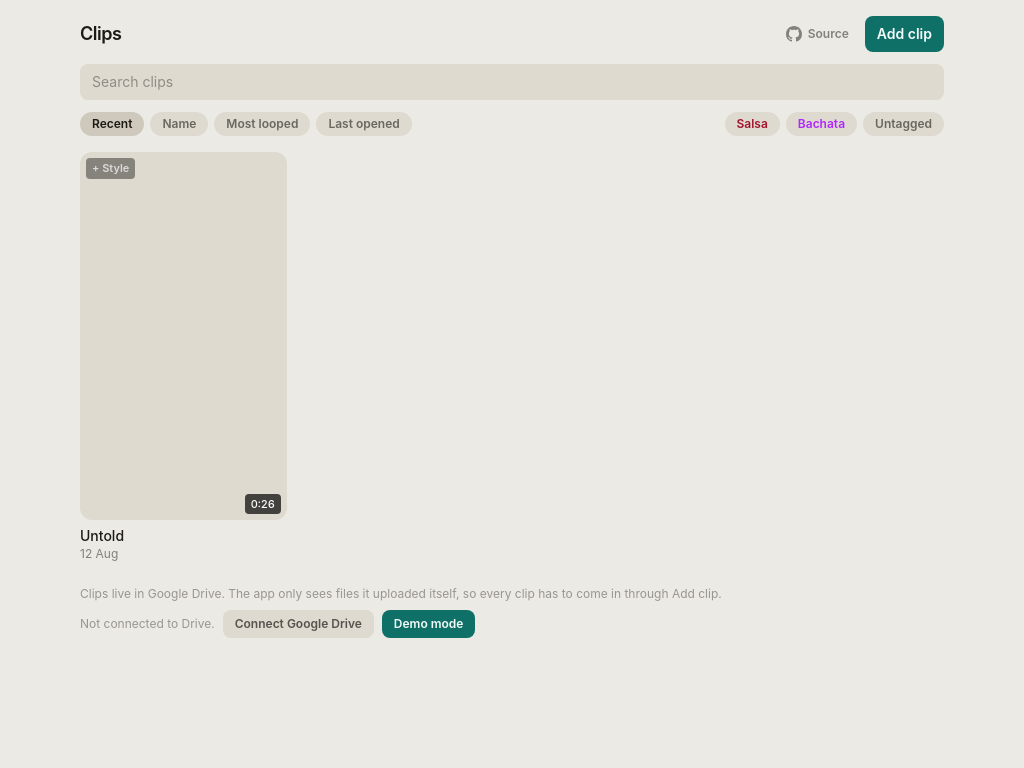
it: the style chips › says there are no clips of the style, rather than showing a bare grid
Click the button "Salsa". click: (752, 124)
box: [724,112,780,136]
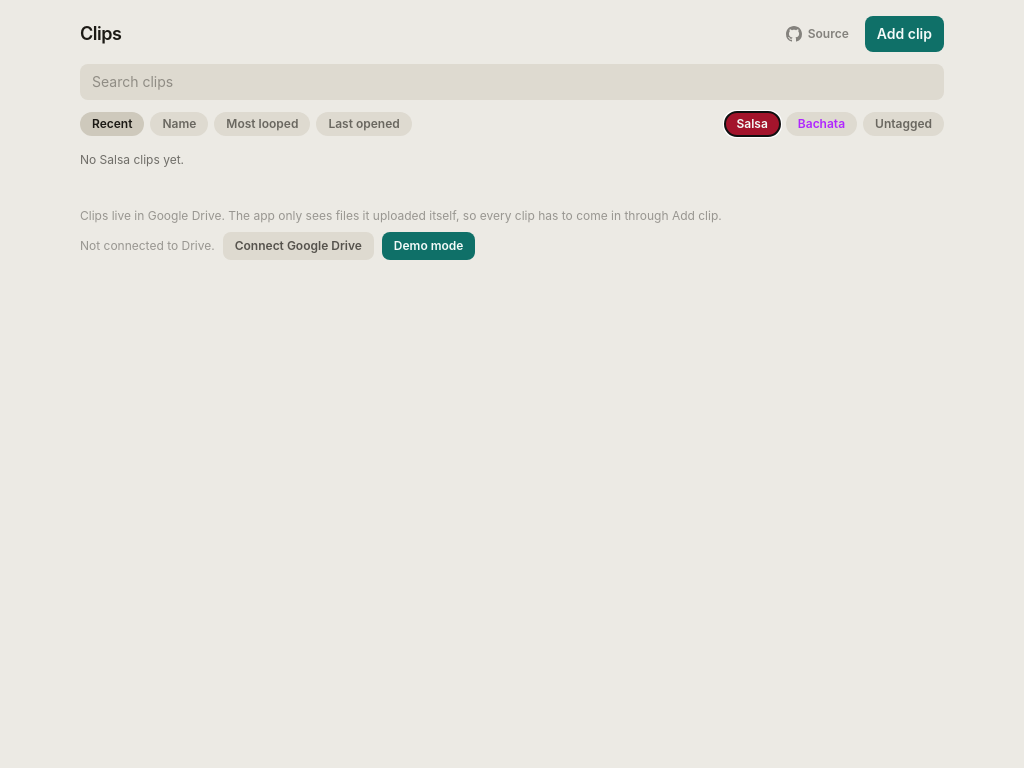
Now the message named "Filter by style" reads "No Salsa clips yet.", box [80,152,184,167]
